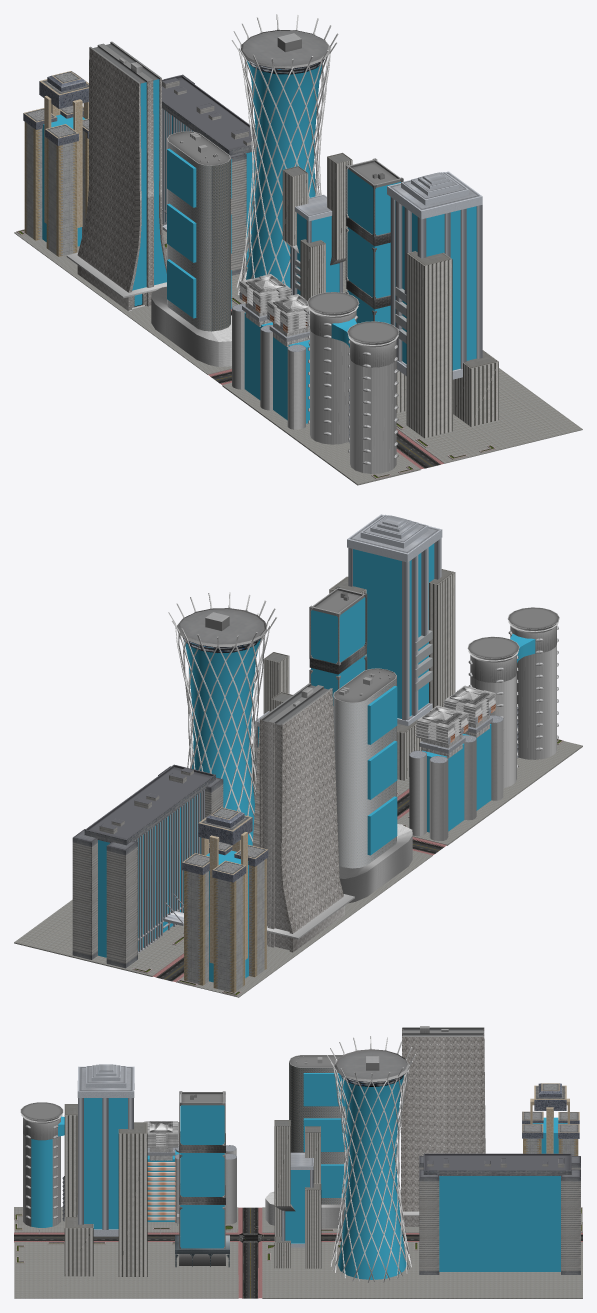
Rendered from City_set.fbx.
The picture shows the model from 3 angles, top to bottom: view 1: azimuth 30°, elevation 25°; view 2: azimuth 150°, elevation 25°; view 3: azimuth 270°, elevation 25°; orthographic projection. The views are drawn at different scales.
Parts seen in each view (by area): view 1: polySurface6378; view 2: polySurface6378; view 3: polySurface6378.
Boxes of the visible parts, left/top/right/bottom form: polySurface6378: left=14, top=14, right=582, bottom=485; polySurface6378: left=14, top=514, right=582, bottom=997; polySurface6378: left=14, top=1026, right=582, bottom=1298.
Bounding box in the file's own units: 77.89 × 83.48 × 203.
